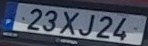2: (94, 15, 114, 40), (25, 7, 43, 31)
3: (41, 9, 59, 32)
4: (110, 16, 128, 41)
J: (76, 12, 97, 37)
X: (57, 9, 80, 36)
